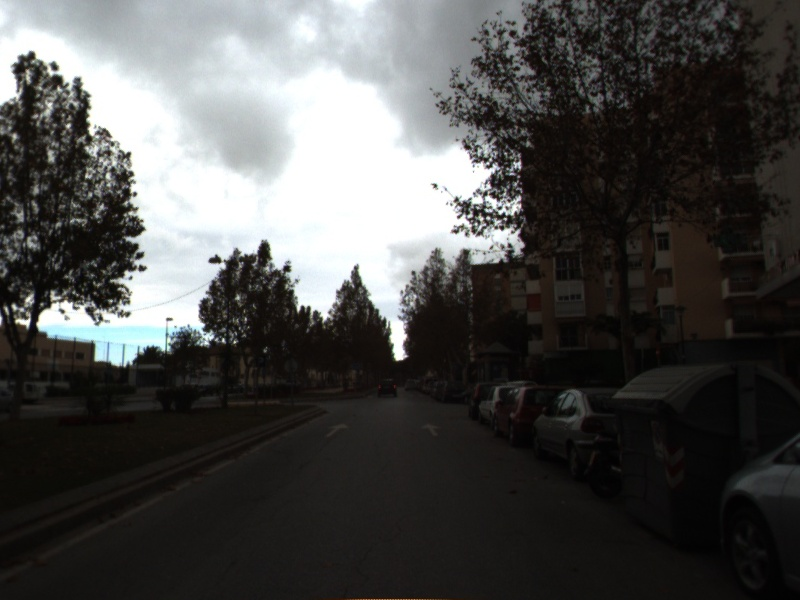STRAIGHT: (323, 420, 351, 439), (418, 420, 443, 438)
